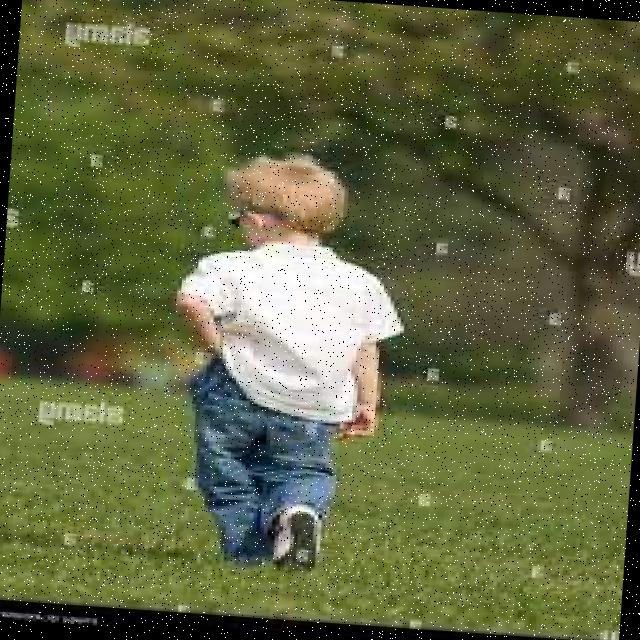Person: (164, 146, 408, 574)
